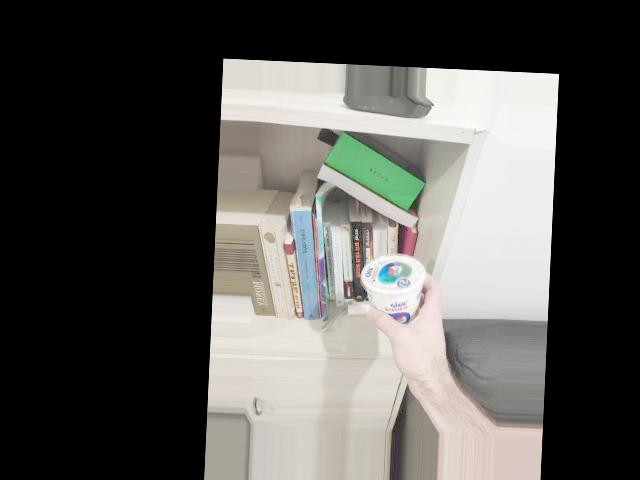cotage: (357, 248, 432, 334)
